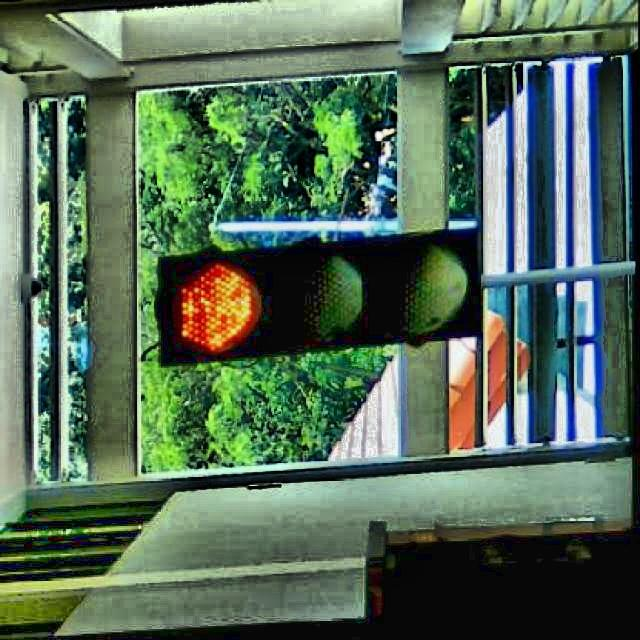red: (160, 234, 481, 355)
